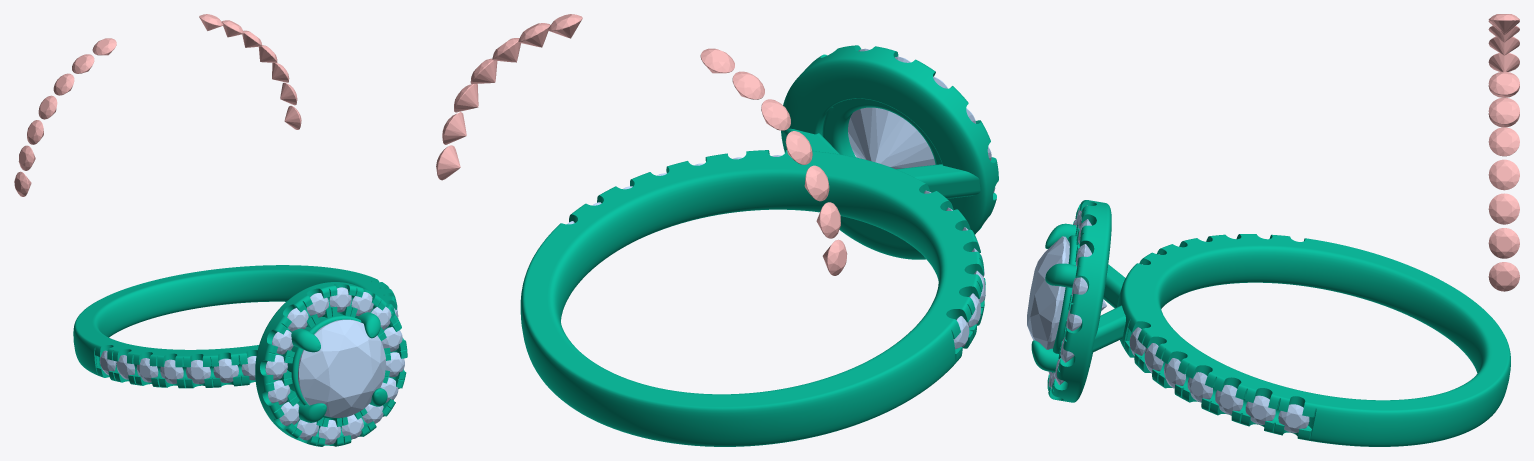
3 renders of one model, left to right at view 1: azimuth 30°, elevation 25°; view 2: azimuth 150°, elevation 25°; view 3: azimuth 270°, elevation 25°, orthographic. The views are drawn at different scales.
Visible parts, largest first — view 1: JTC 13458(base).3dm, Diamond_Round (×7); view 2: JTC 13458(base).3dm, Diamond_Round (×12); view 3: JTC 13458(base).3dm, Diamond_Round (×13).
Boxes of the visible parts, x1,y1,x2,y2 form: JTC 13458(base).3dm: (73,265,407,446); Diamond_Round (×7): (160,287,385,417); JTC 13458(base).3dm: (520,45,998,446); Diamond_Round (×12): (436,14,935,275); JTC 13458(base).3dm: (1031,200,1510,446); Diamond_Round (×13): (1027,53,1519,432).
Bounding box in the file's own units: 2.42 × 2.34 × 2.99.
